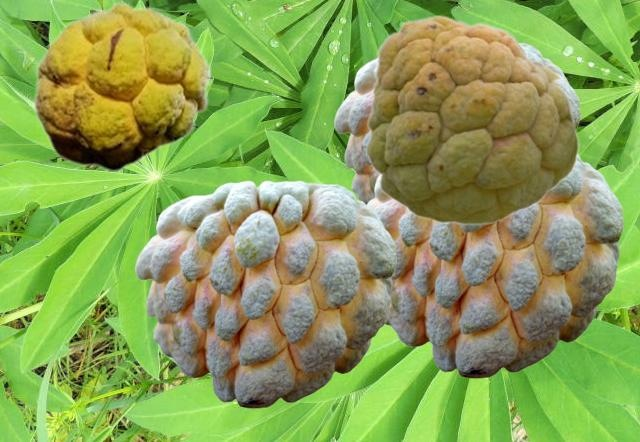atis: (135, 180, 395, 407), (367, 154, 622, 377), (364, 14, 578, 224), (334, 42, 579, 203), (32, 1, 211, 171)
